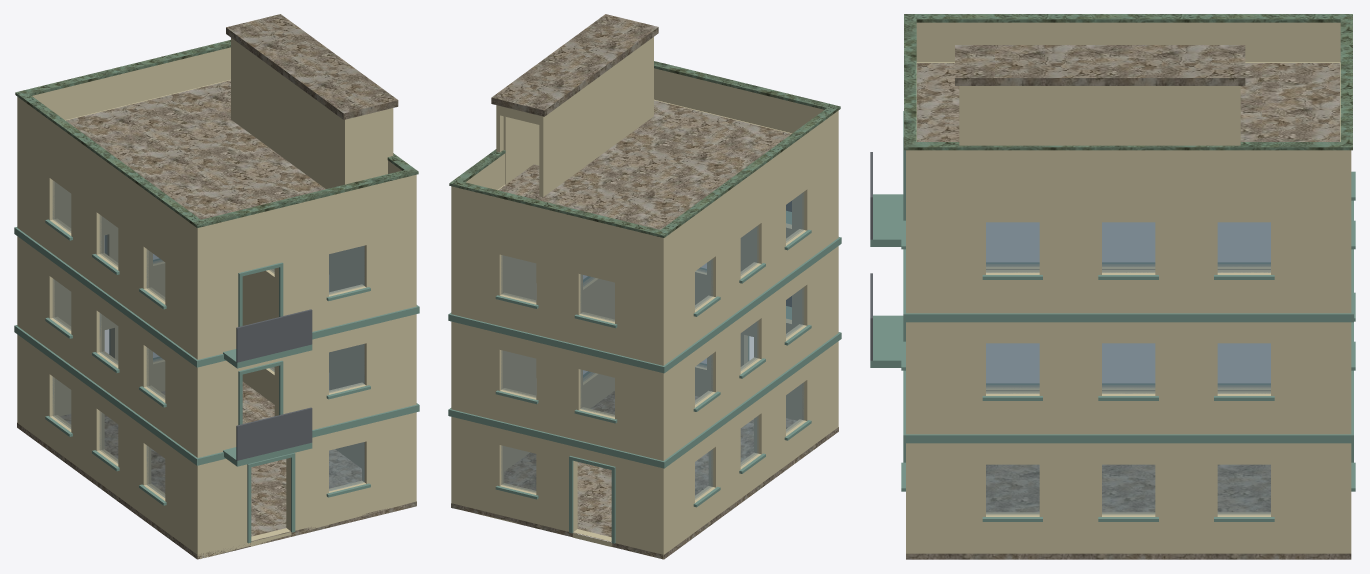
The model's file is bay-townhouse-yellow.zfix-v7.lod1.glb.
The picture shows the model from 3 angles, left to right: view 1: azimuth 30°, elevation 25°; view 2: azimuth 150°, elevation 25°; view 3: azimuth 270°, elevation 25°; orthographic projection. The views are drawn at different scales.
Visible parts, largest first — view 1: bay-townhouse-yellow; view 2: bay-townhouse-yellow; view 3: bay-townhouse-yellow.
Boxes of the visible parts, bbox=[...] form: bay-townhouse-yellow: bbox=[14, 14, 419, 559]; bay-townhouse-yellow: bbox=[448, 14, 841, 559]; bay-townhouse-yellow: bbox=[870, 14, 1355, 559].
Size of the model in its own units: 7.2 by 11.96 by 10.9.
Materials: 3 (1 with a texture image).
